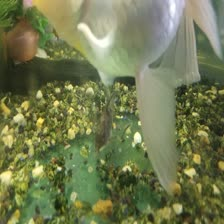Cuezo: (30, 0, 214, 201)
